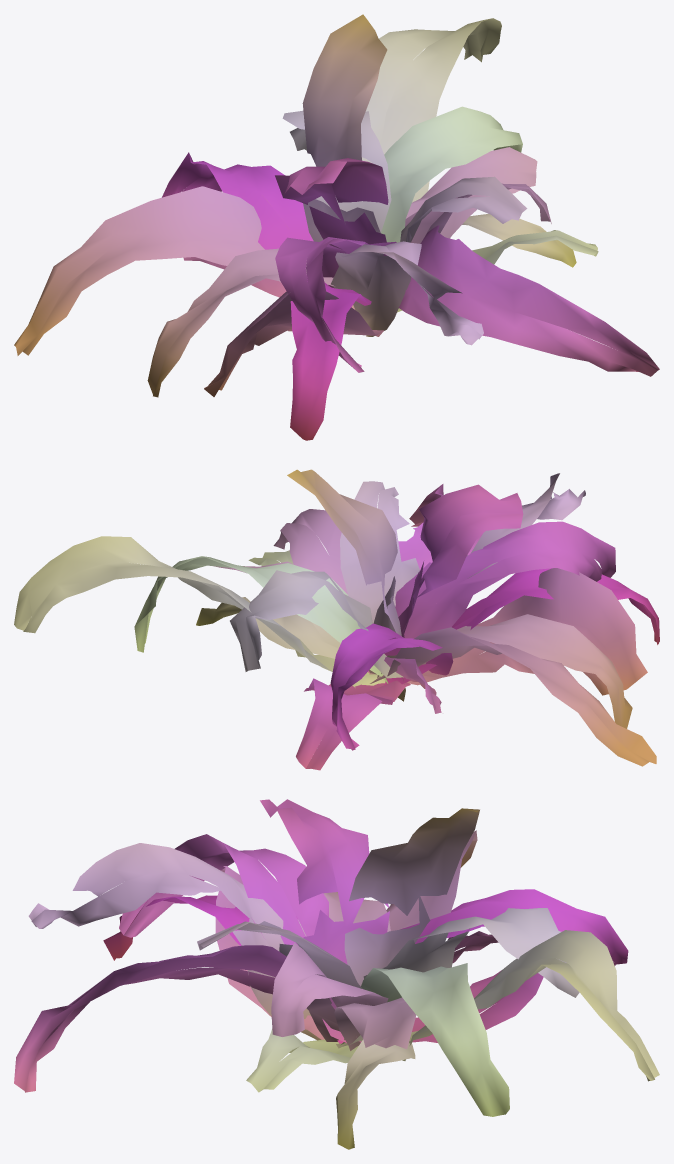
The model's file is fern_a_LODs.glb.
The picture shows the model from 3 angles, top to bottom: view 1: azimuth 30°, elevation 25°; view 2: azimuth 150°, elevation 25°; view 3: azimuth 270°, elevation 25°; orthographic projection. The views are drawn at different scales.
Parts seen in each view (by area): view 1: fern_a_LOD0; view 2: fern_a_LOD0; view 3: fern_a_LOD0.
Boxes of the visible parts, x1,y1,x2,y2 form: fern_a_LOD0: [14, 14, 659, 440]; fern_a_LOD0: [14, 469, 659, 770]; fern_a_LOD0: [14, 799, 659, 1149].
Size of what is drawn, in the model's own units: 1.85 by 0.8 by 1.67.
